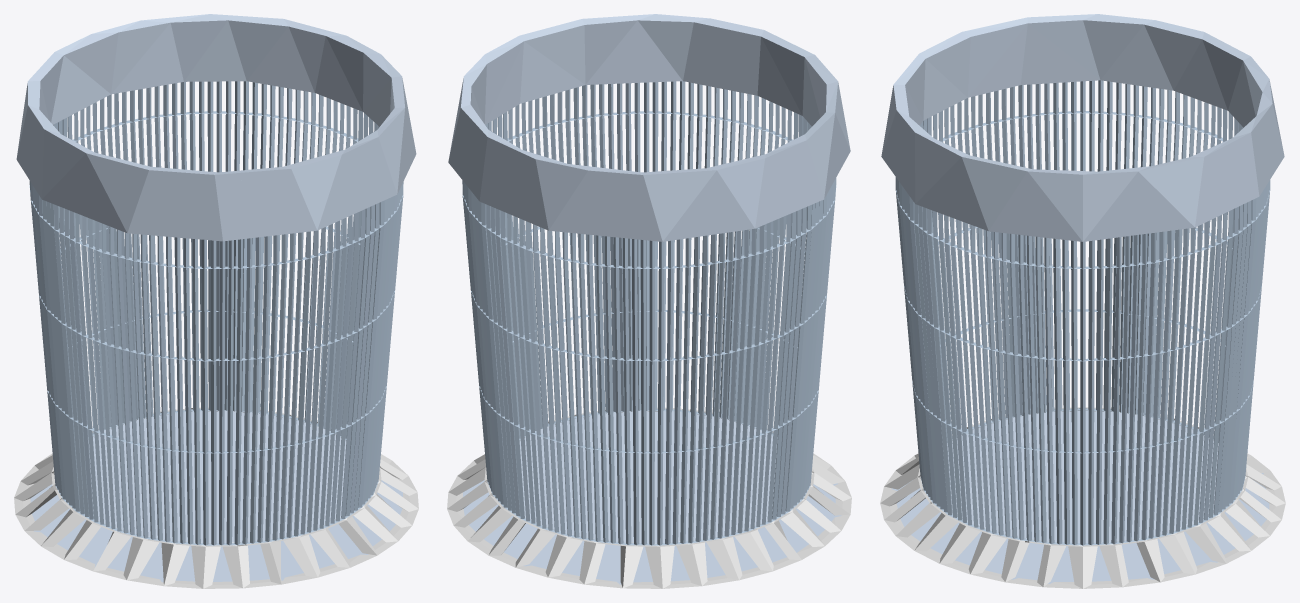
The model's file is spoon basket.fbx.
3 renders of one model, left to right at view 1: azimuth 30°, elevation 25°; view 2: azimuth 150°, elevation 25°; view 3: azimuth 270°, elevation 25°, orthographic.
Parts seen in each view (by area): view 1: Цилиндр.001, Цилиндр, Цилиндр.002; view 2: Цилиндр.001, Цилиндр, Цилиндр.002; view 3: Цилиндр.001, Цилиндр, Цилиндр.002.
Part boxes in pixels (x1,y1,x2,y2): Цилиндр.001: (29, 81, 403, 545); Цилиндр: (16, 14, 416, 582); Цилиндр.002: (14, 407, 418, 588); Цилиндр.001: (462, 81, 836, 545); Цилиндр: (448, 14, 850, 584); Цилиндр.002: (447, 407, 851, 588); Цилиндр.001: (895, 80, 1270, 545); Цилиндр: (881, 14, 1284, 583); Цилиндр.002: (880, 407, 1285, 588).
Bounding box in the file's own units: 100 × 111 × 100.
